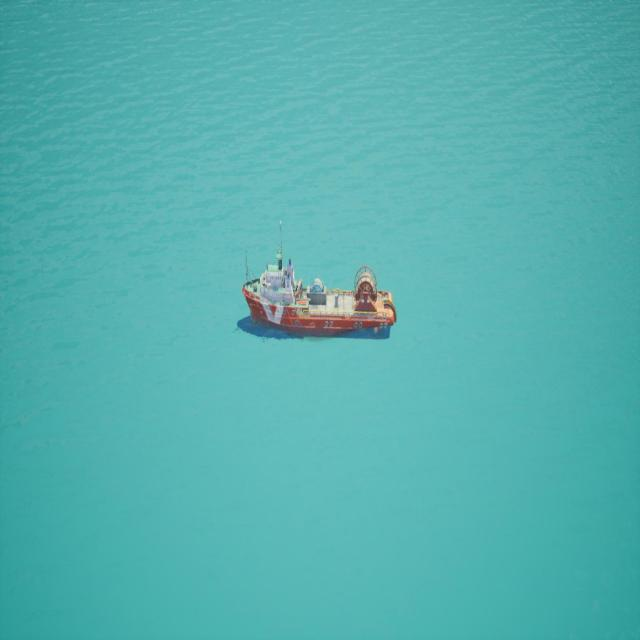tug boat: (242, 203, 398, 392)
